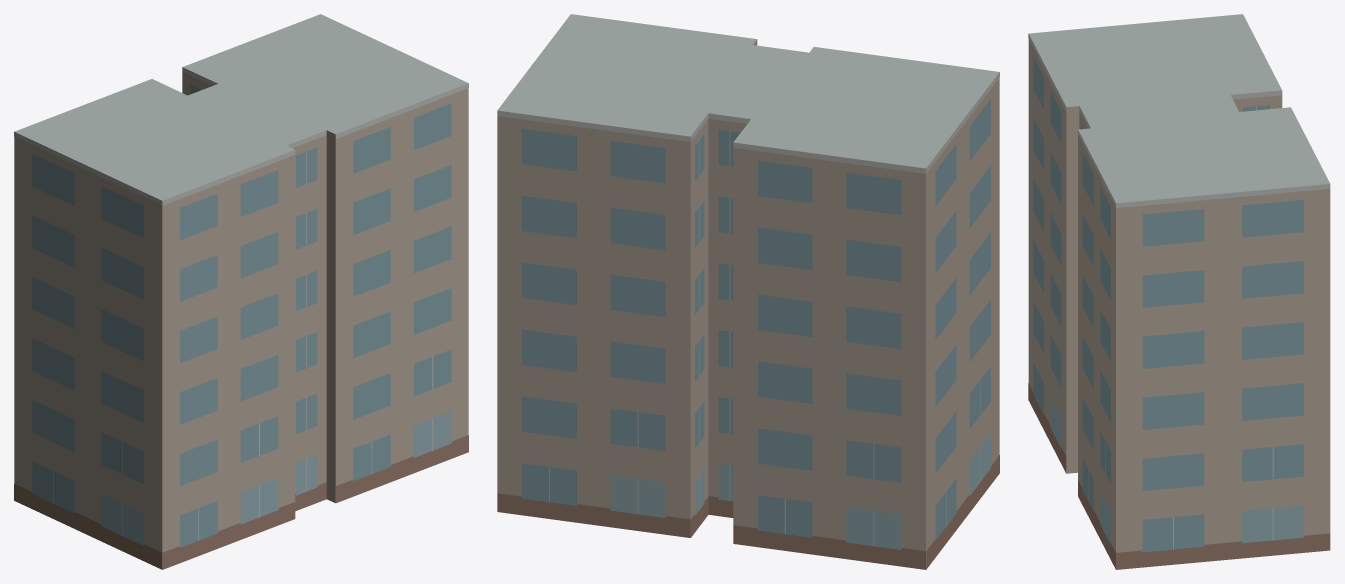
Rendered from survey-upis-32944485.glb.
The picture shows the model from 3 angles, left to right: view 1: azimuth 30°, elevation 25°; view 2: azimuth 150°, elevation 25°; view 3: azimuth 270°, elevation 25°; orthographic projection. The views are drawn at different scales.
Visible parts, largest first — view 1: survey-upis-32944485.tmp; view 2: survey-upis-32944485.tmp; view 3: survey-upis-32944485.tmp.
Boxes of the visible parts, left/top/right/bottom form: survey-upis-32944485.tmp: left=14, top=14, right=468, bottom=569; survey-upis-32944485.tmp: left=497, top=14, right=999, bottom=569; survey-upis-32944485.tmp: left=1028, top=14, right=1330, bottom=569.
Bounding box in the file's own units: 20.28 × 18.3 × 13.67.
